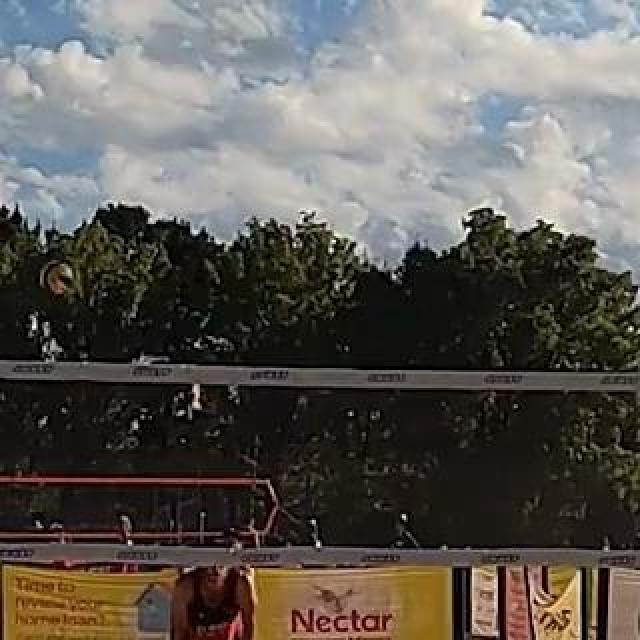volleyball: (40, 262, 70, 294)
